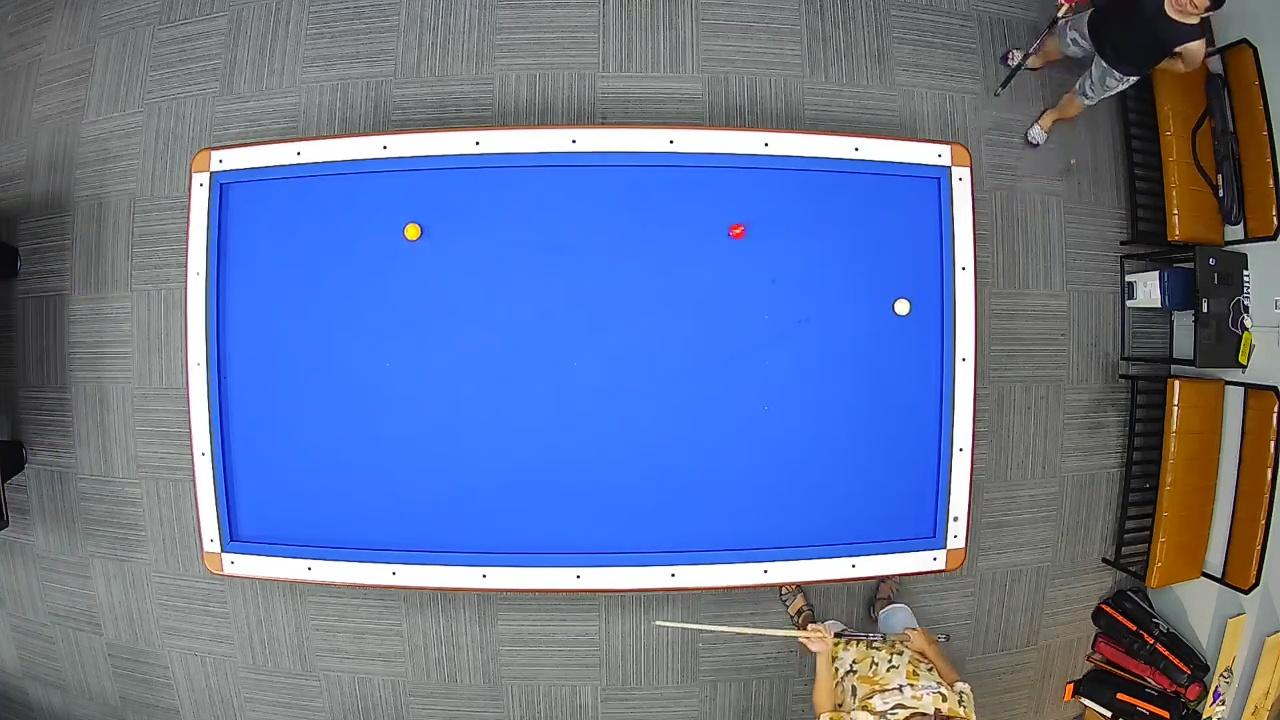Red: (728, 222, 748, 240)
White: (892, 297, 914, 318)
Yellow: (402, 222, 422, 243)
